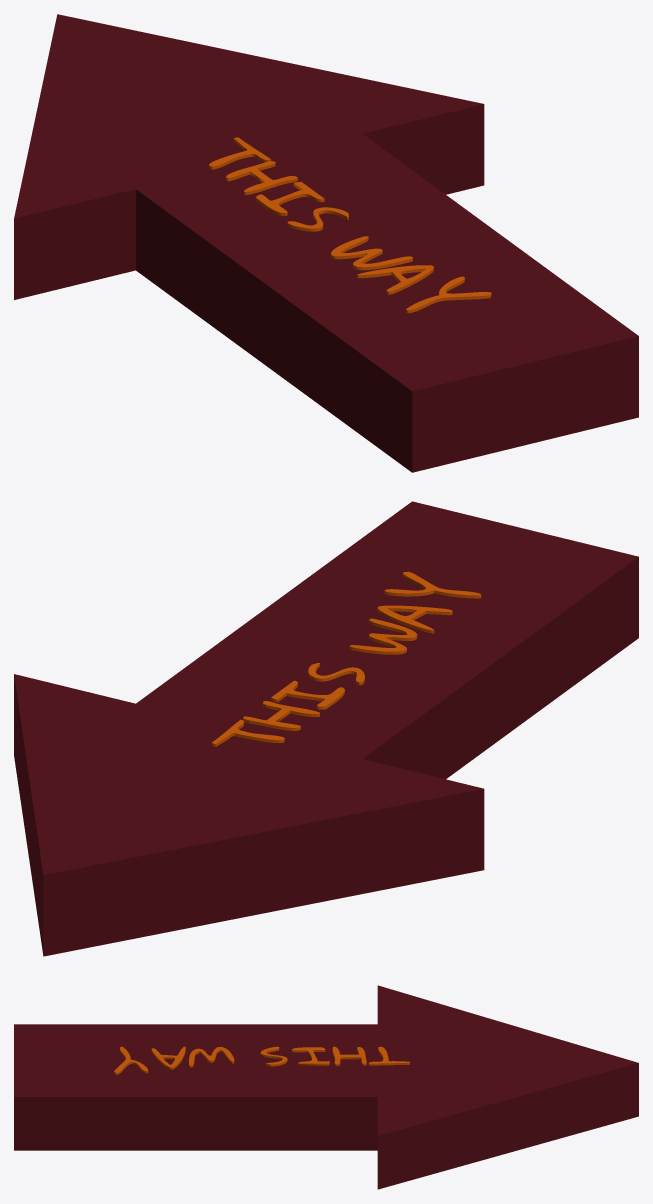
Rendered from sign_left.fbx.
The picture shows the model from 3 angles, top to bottom: view 1: azimuth 30°, elevation 25°; view 2: azimuth 150°, elevation 25°; view 3: azimuth 270°, elevation 25°; orthographic projection. The views are drawn at different scales.
Visible parts, largest first — view 1: SignLeft; view 2: SignLeft; view 3: SignLeft.
Boxes of the visible parts, box(x1,y1,x2,y2) form: SignLeft: box(14, 14, 638, 472); SignLeft: box(14, 501, 638, 956); SignLeft: box(14, 985, 638, 1189).
Bounding box in the file's own units: 386 × 66.25 × 676.
